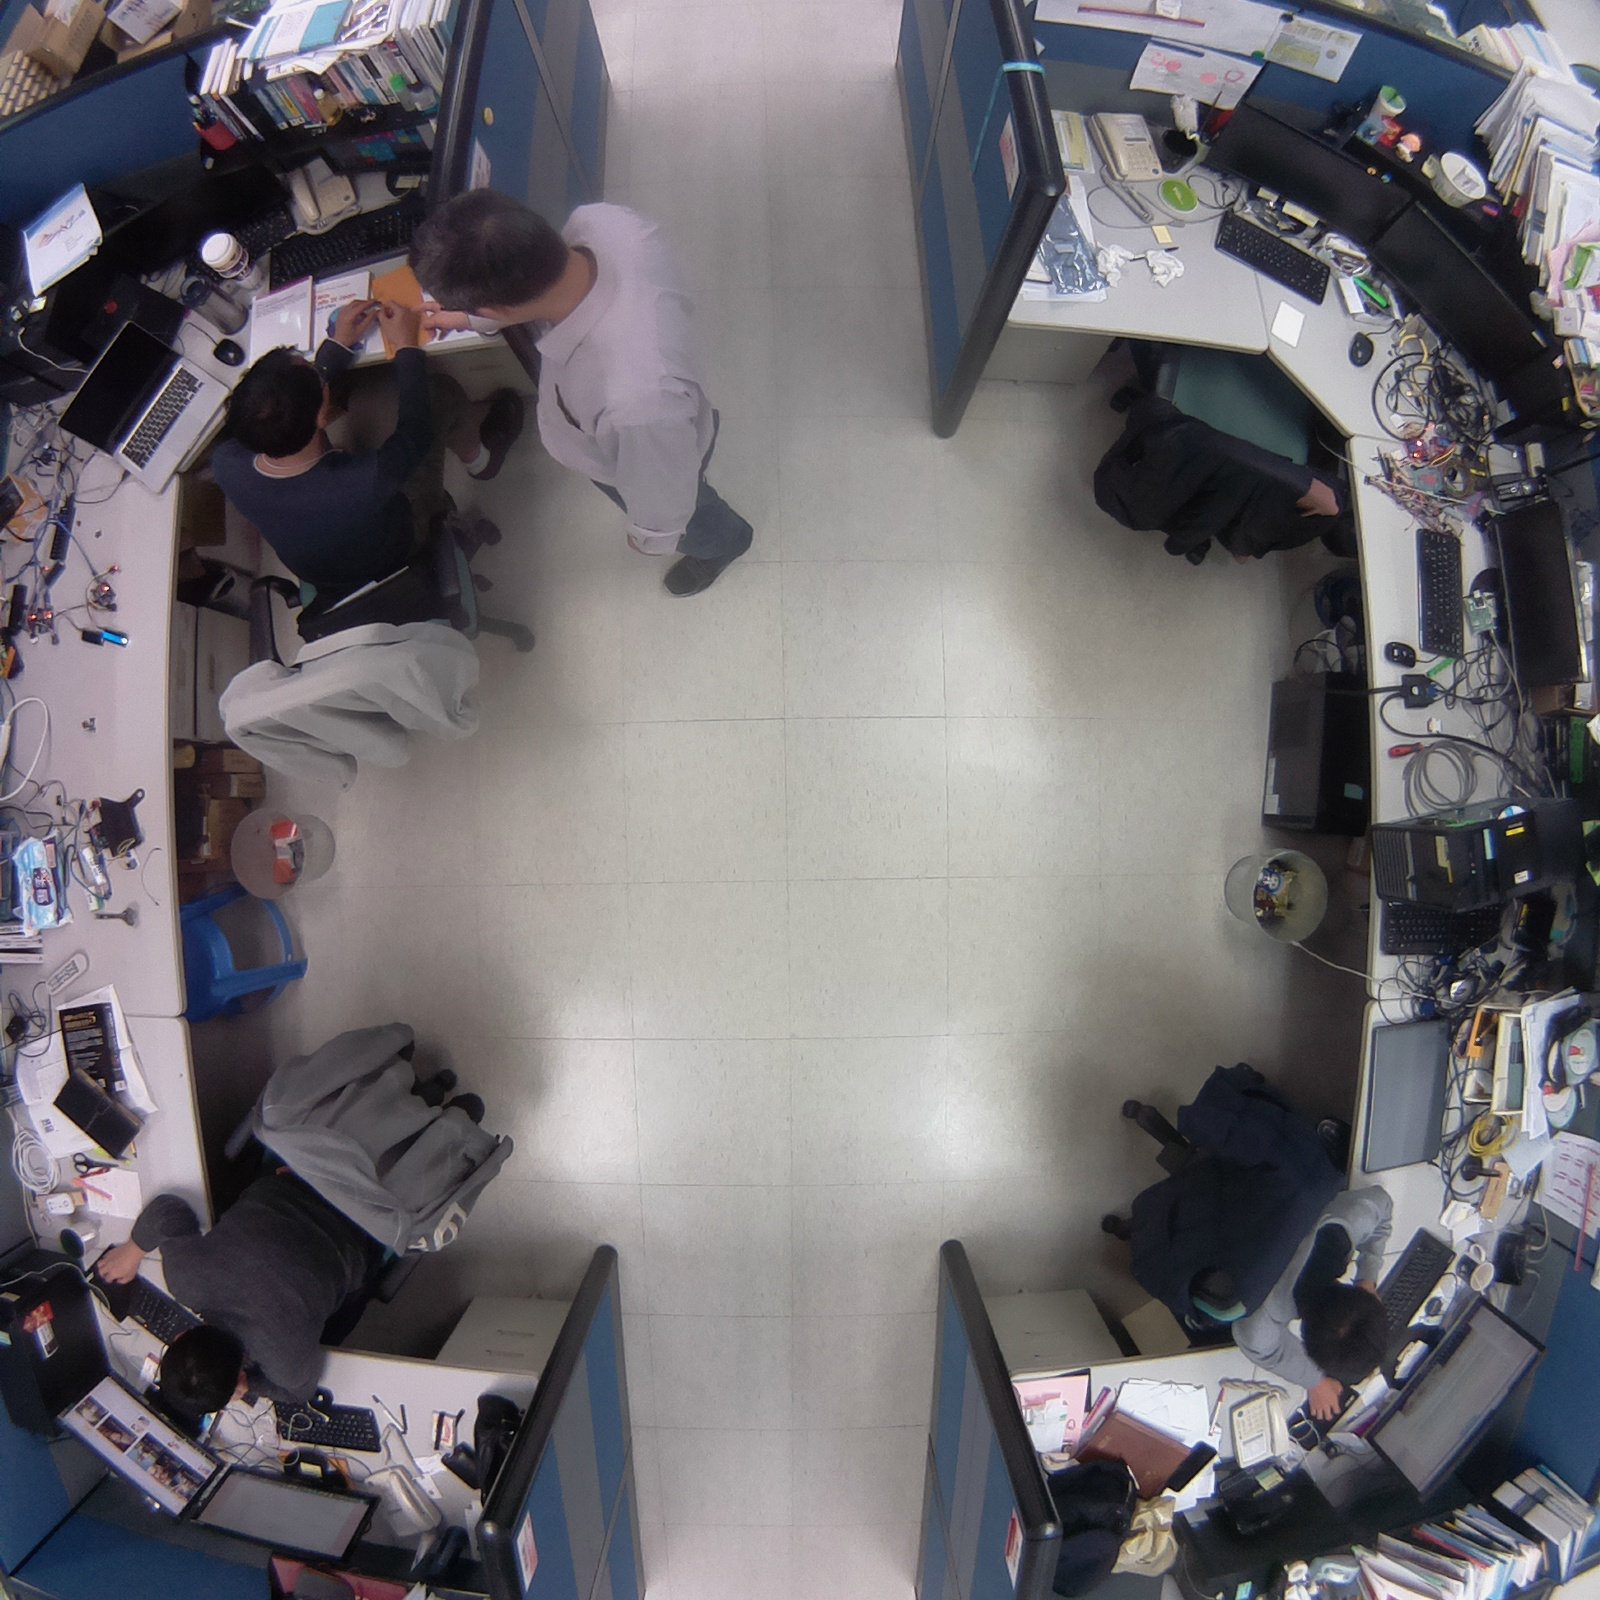chair: (1081, 319, 1373, 575)
head: (389, 180, 572, 331), (219, 348, 338, 463), (1283, 1282, 1404, 1389), (151, 1325, 257, 1421)
sitting: (77, 993, 542, 1427), (201, 337, 576, 804), (1081, 1040, 1407, 1426)
standing: (403, 184, 766, 609)
